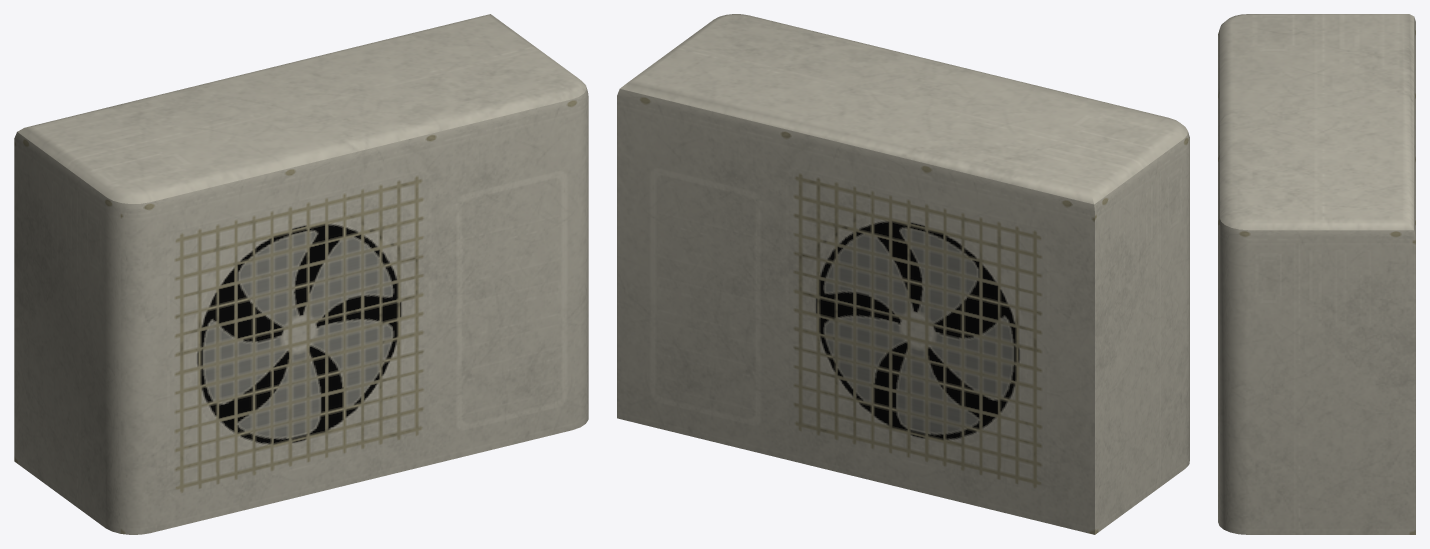
File: Prop_ACUnit.gltf
3 views of the same model, side by side, from view 1: azimuth 30°, elevation 25°; view 2: azimuth 150°, elevation 25°; view 3: azimuth 270°, elevation 25° (orthographic). The views are drawn at different scales.
Parts seen in each view (by area): view 1: Prop_ACUnit; view 2: Prop_ACUnit; view 3: Prop_ACUnit.
Part boxes in pixels (<box>): Prop_ACUnit: <box>14,14,588,534</box>; Prop_ACUnit: <box>617,14,1189,534</box>; Prop_ACUnit: <box>1218,14,1415,534</box>.
Bounding box in the file's own units: 0.8932 × 0.6 × 0.3471.
Materials: 1 (1 with a texture image).
